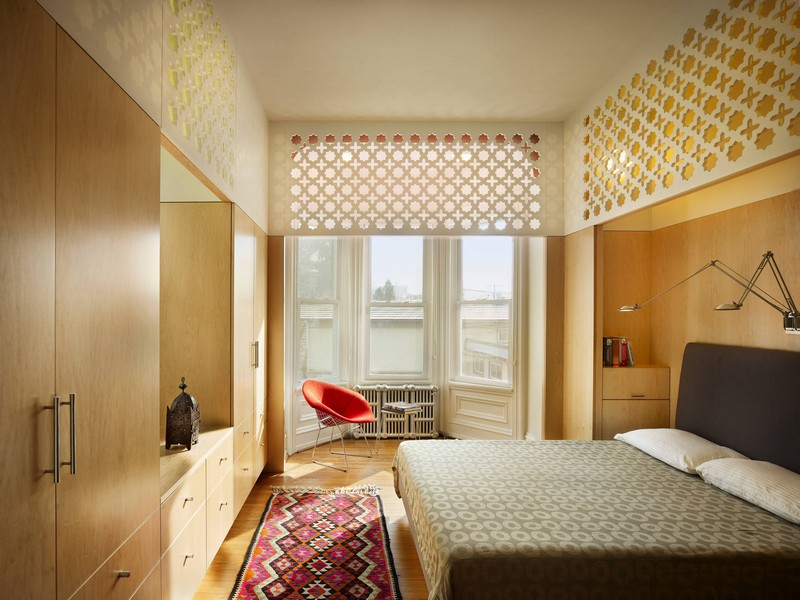bed: (394, 344, 800, 587)
chair: (297, 370, 381, 473)
